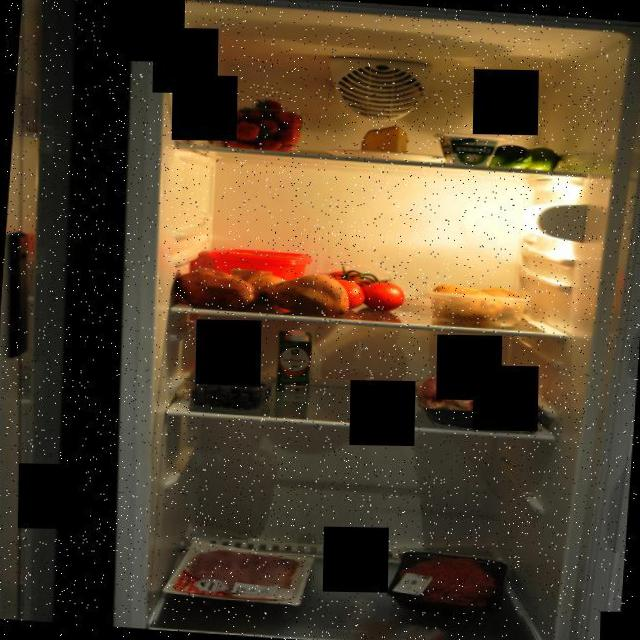Carne cerdo: (184, 546, 300, 606)
Carne pollo: (409, 361, 544, 432)
Mantequilla: (214, 244, 310, 282)
Patata: (426, 278, 534, 330)
Queso: (356, 121, 414, 160)
Tomate: (317, 260, 411, 316)
